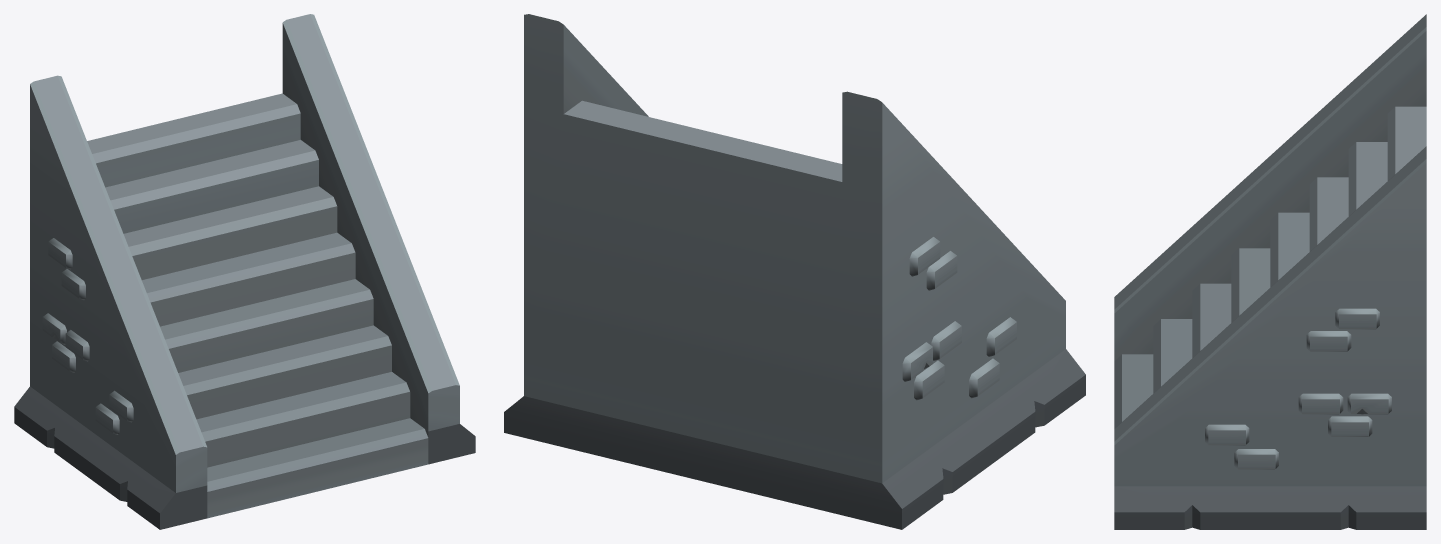
The model's file is stairs.glb.
3 renders of one model, left to right at view 1: azimuth 30°, elevation 25°; view 2: azimuth 150°, elevation 25°; view 3: azimuth 270°, elevation 25°, orthographic. The views are drawn at different scales.
Visible parts, largest first — view 1: stairs; view 2: stairs; view 3: stairs.
Part boxes in pixels (x1,y1,x2,y2): stairs: (14,14,475,529); stairs: (504,14,1085,529); stairs: (1114,14,1426,529).
Size of the model in its own units: 5 by 5.1 by 4.
Materials: 1 (1 with a texture image).
